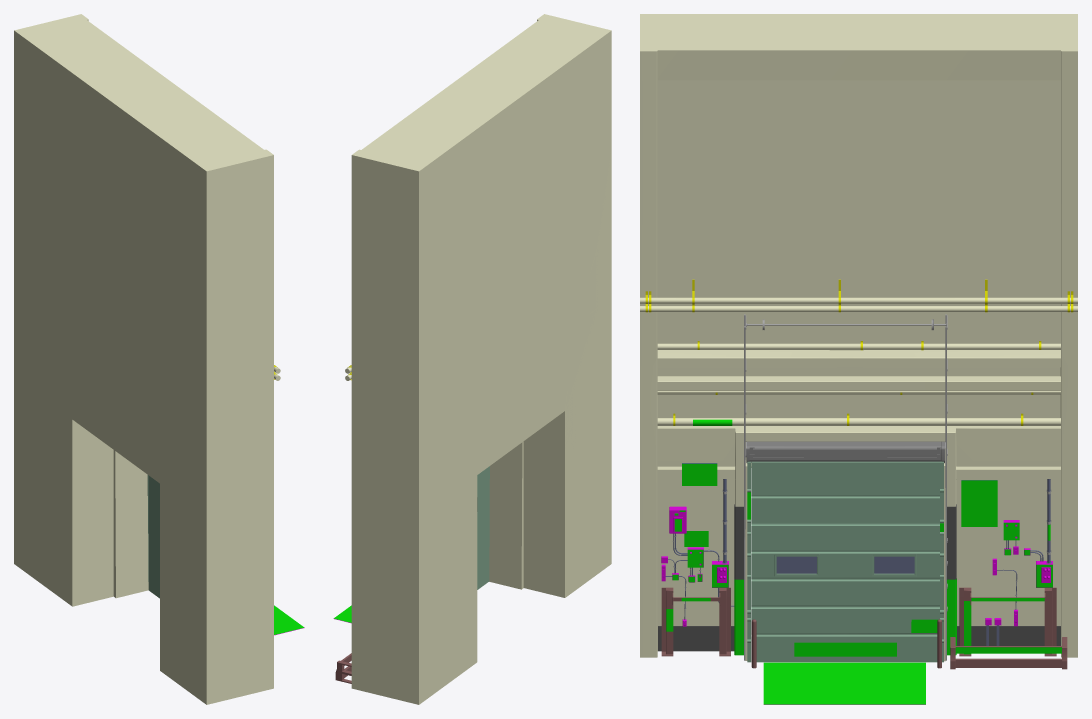
The model's file is wall_gate_GRP.fbx.
The picture shows the model from 3 angles, left to right: view 1: azimuth 30°, elevation 25°; view 2: azimuth 150°, elevation 25°; view 3: azimuth 270°, elevation 25°; orthographic projection. The views are drawn at different scales.
Visible parts, largest first — view 1: wall_01, wall_02, gate_01, decal_floor; view 2: wall_01, wall_02, gate_01; view 3: wall_01, gate_01, decals_wall_gate, decal_floor, footGuard_01, wall_pipe_06, wall_pipe_04, wall_pipe_03, gate_container_01, wall_pipe_01, decal_gate, gate_container_panel_01 (+11 smaller).
Part boxes in pixels (left/top/right/bottom): wall_01: left=14, top=14, right=273, bottom=704; wall_02: left=113, top=450, right=148, bottom=598; gate_01: left=148, top=475, right=159, bottom=598; decal_floor: left=274, top=605, right=304, bottom=634; wall_01: left=351, top=14, right=611, bottom=704; wall_02: left=489, top=441, right=523, bottom=589; gate_01: left=477, top=467, right=488, bottom=589; wall_01: left=640, top=14, right=1077, bottom=657; gate_01: left=751, top=461, right=939, bottom=662; decals_wall_gate: left=666, top=419, right=1061, bottom=655; decal_floor: left=763, top=662, right=925, bottom=704; footGuard_01: left=658, top=626, right=1060, bottom=651; wall_pipe_06: left=640, top=297, right=1077, bottom=303; wall_pipe_04: left=657, top=418, right=1060, bottom=425; wall_pipe_03: left=657, top=343, right=1060, bottom=349; gate_container_01: left=749, top=441, right=941, bottom=462; wall_pipe_01: left=640, top=306, right=1077, bottom=311; decal_gate: left=794, top=619, right=937, bottom=656; gate_container_panel_01: left=749, top=447, right=941, bottom=459.
Size of the model in its own units: 274 by 917 by 600.
